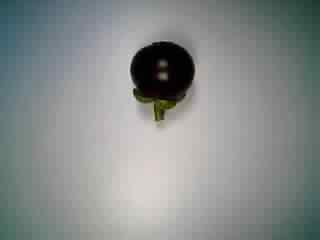mangosteen: (122, 38, 199, 125)
